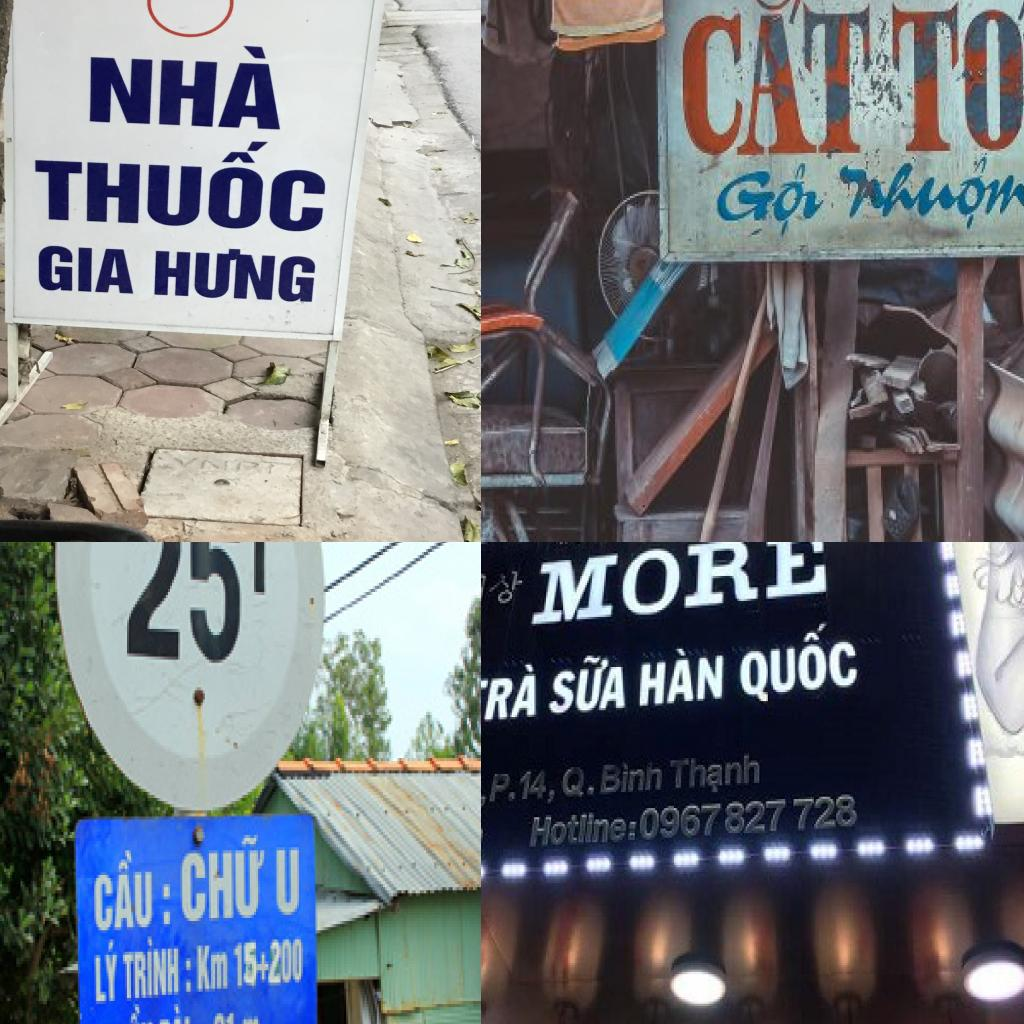text: (28, 132, 339, 238), (678, 0, 876, 159), (530, 542, 829, 628), (884, 0, 1024, 159), (120, 542, 278, 677), (85, 34, 287, 131), (836, 153, 1024, 235), (638, 792, 862, 845), (739, 619, 862, 708), (151, 244, 320, 306), (711, 165, 828, 241), (180, 832, 268, 927), (92, 848, 174, 936), (638, 644, 727, 710), (546, 651, 628, 719), (35, 243, 136, 296), (121, 933, 194, 1004), (562, 758, 666, 804), (527, 810, 640, 852), (669, 751, 763, 799), (481, 662, 540, 726), (486, 770, 558, 810), (194, 942, 232, 995), (268, 936, 305, 989), (277, 847, 303, 921), (94, 937, 121, 1007), (232, 939, 260, 992), (94, 1001, 155, 1024), (158, 998, 205, 1024), (172, 452, 230, 472), (256, 952, 270, 986), (556, 542, 586, 548)
